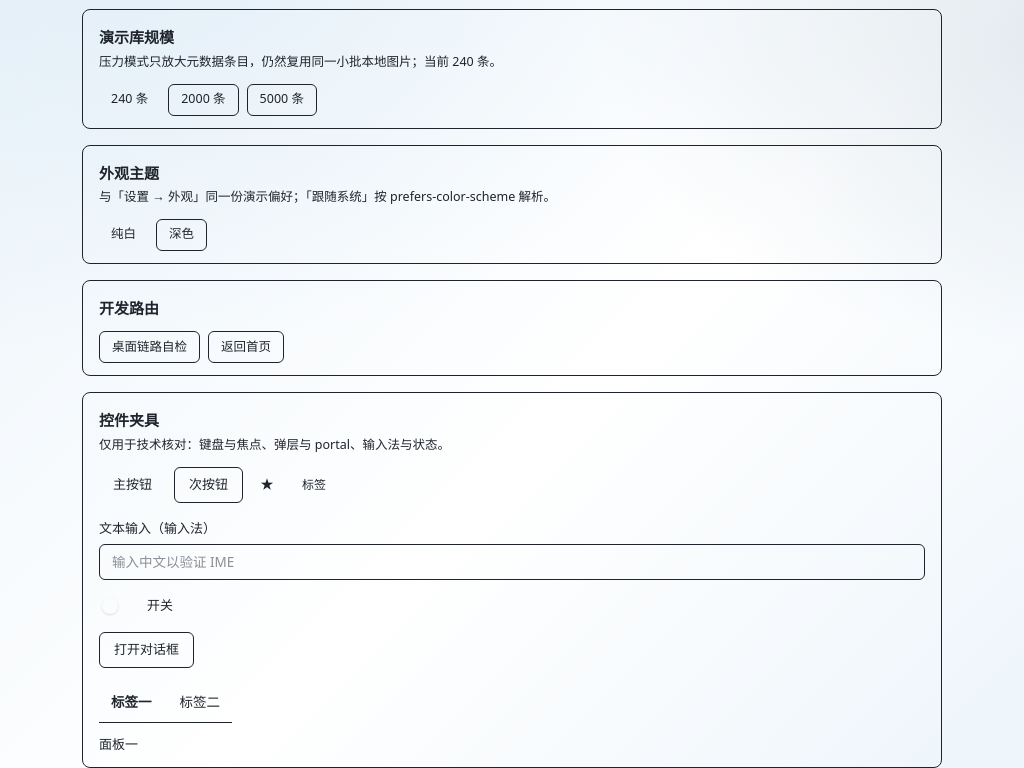
Test: 新 Renderer 装配 › 控件夹具的对话框可打开并在 Esc 后关闭（portal 焦点路径可用）
(page scrolled)
Step 1. Click the button "打开对话框" → (146, 650), box [99,632,194,668]
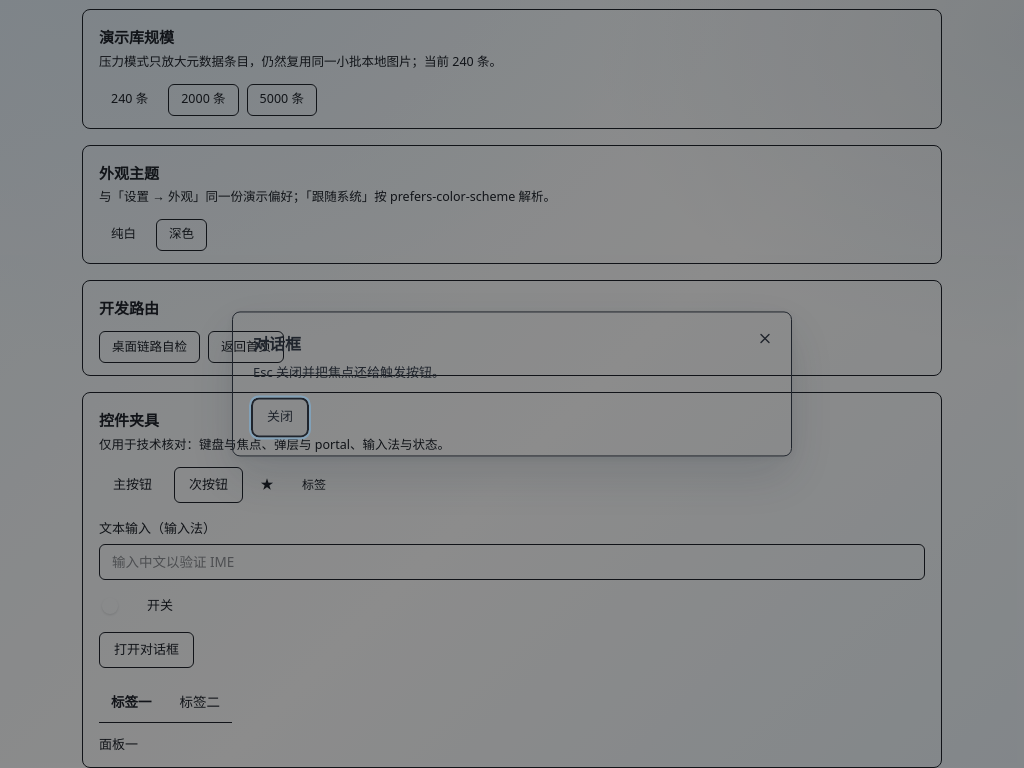
expect the dialog is shown: met
Note: 在对话框元素上派发 Escape，验证 Radix 的关闭与焦点路径。
Step 2. Press Escape in the dialog, box [232,311,792,456]
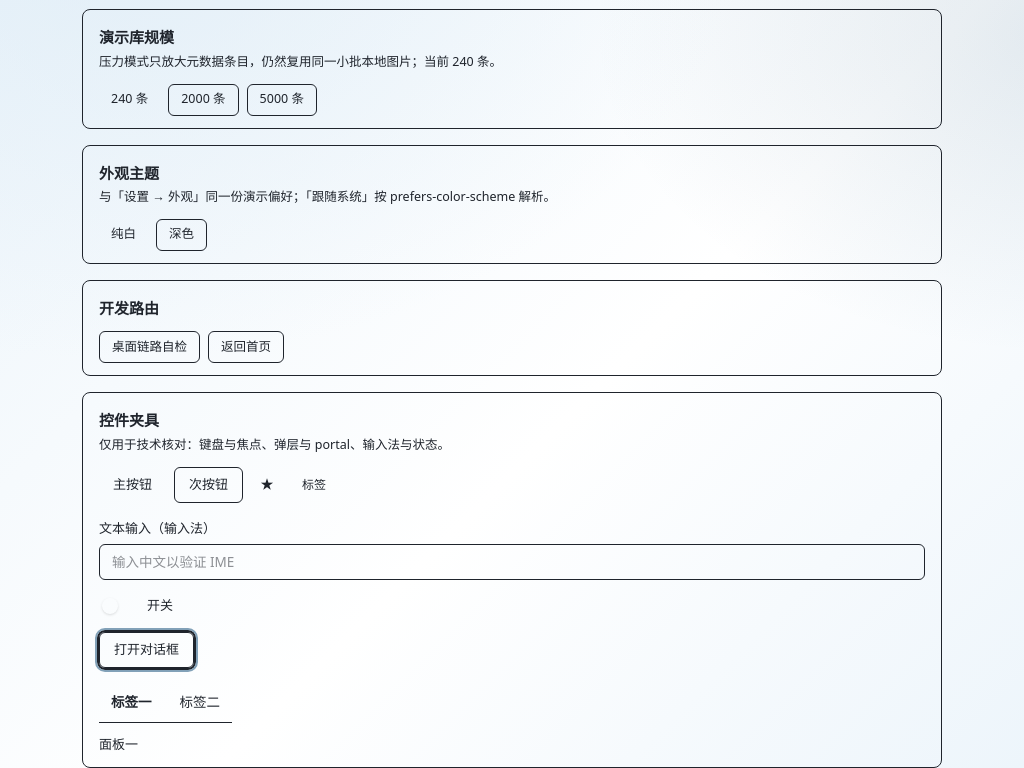
expect the dialog is gone: met
